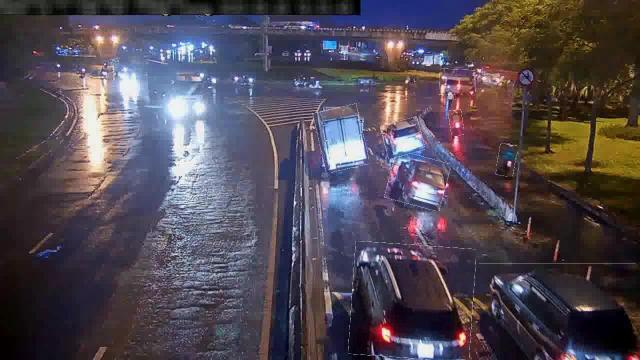Bike: (497, 144, 517, 176), (448, 110, 464, 136)
Bus: (439, 69, 476, 95)
Car: (479, 263, 636, 359), (350, 243, 474, 359), (388, 154, 448, 208), (382, 119, 424, 157)
Truck: (316, 106, 366, 170)
